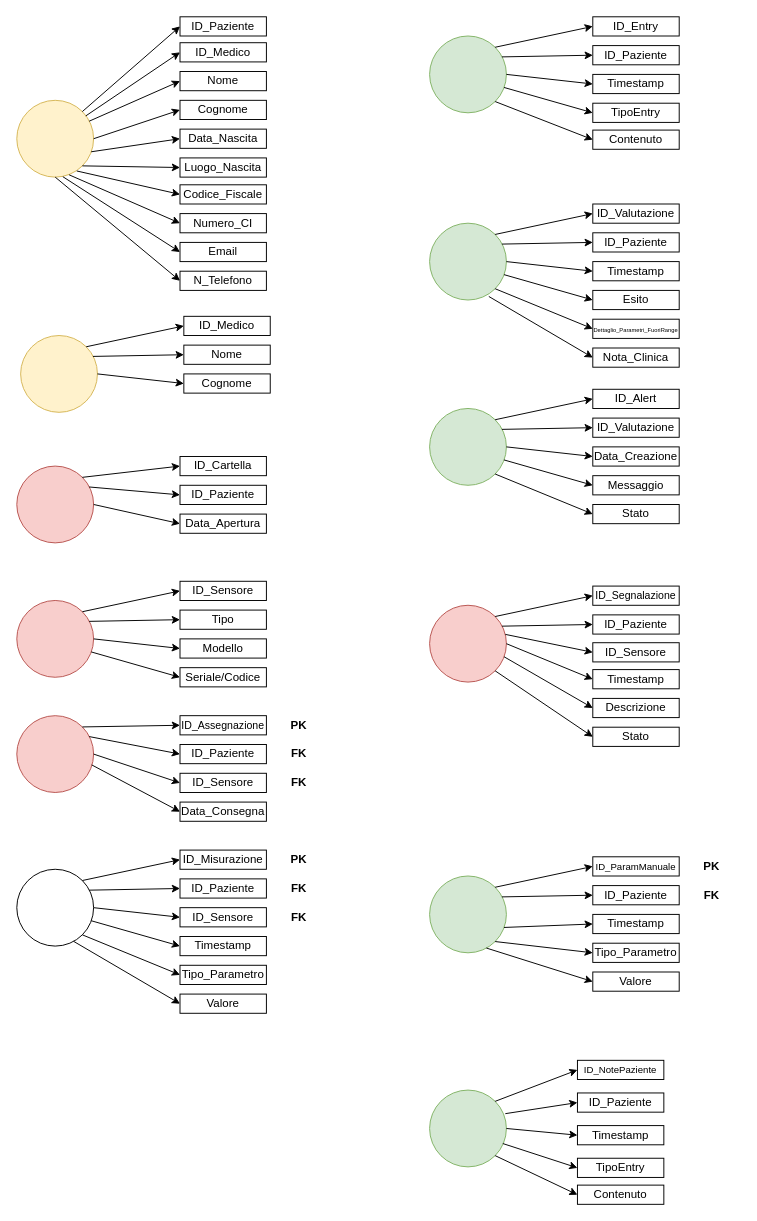
This 757x1221 diagram has some shape labels left out. Here are the shapes that lost their labels. From the top down, the centre of each, then its label:
the point at 467,74: Diario_Entry
the point at 55,138: Paziente
the point at 467,261: Valutazione_ Stato_Clinico
the point at 58,373: Medico
the point at 467,446: Alert
the point at 55,504: Cartella_ Specialistica
the point at 55,638: Sensore
the point at 467,643: Segnalazione_ Tecnica
the point at 55,753: Assegnazione_ Sensore
the point at 55,907: Misurazione
the point at 467,914: Parametro_ Manuale
the point at 467,1128: Note_Entry
